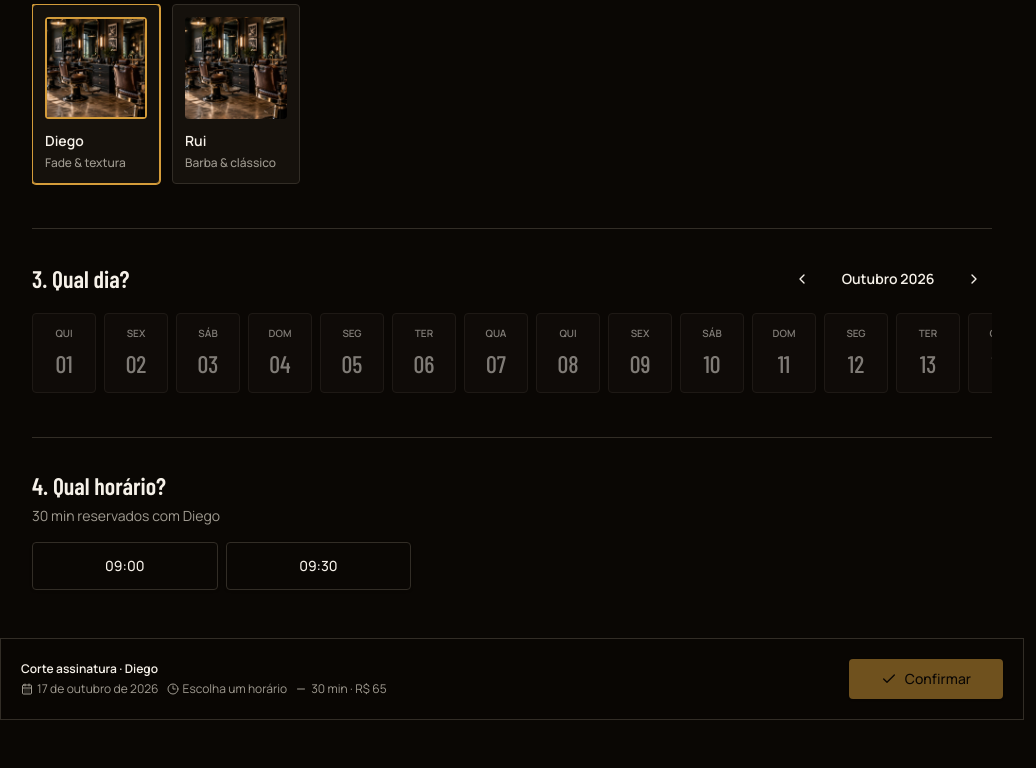
BookingView › confirms the chosen hour without asking for a name or email
(page scrolled)
Click the button "09:30".
click(318, 566)  # box [226,542,411,590]
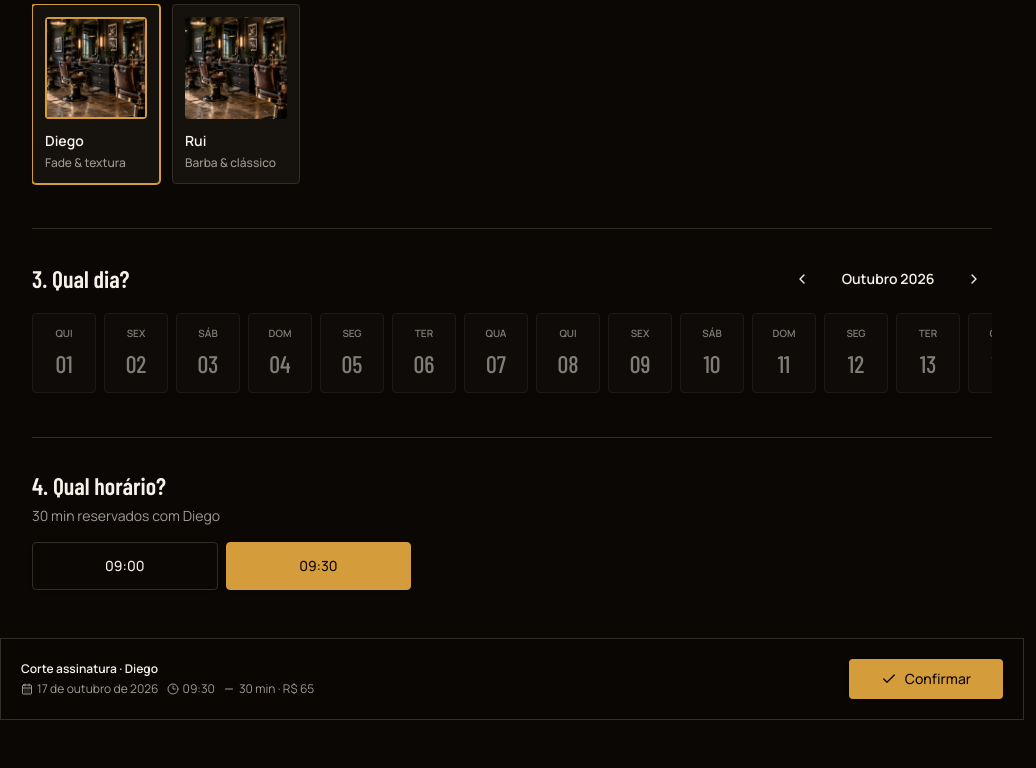
Click the button "Confirmar".
click(926, 679)  # box [849,659,1003,699]
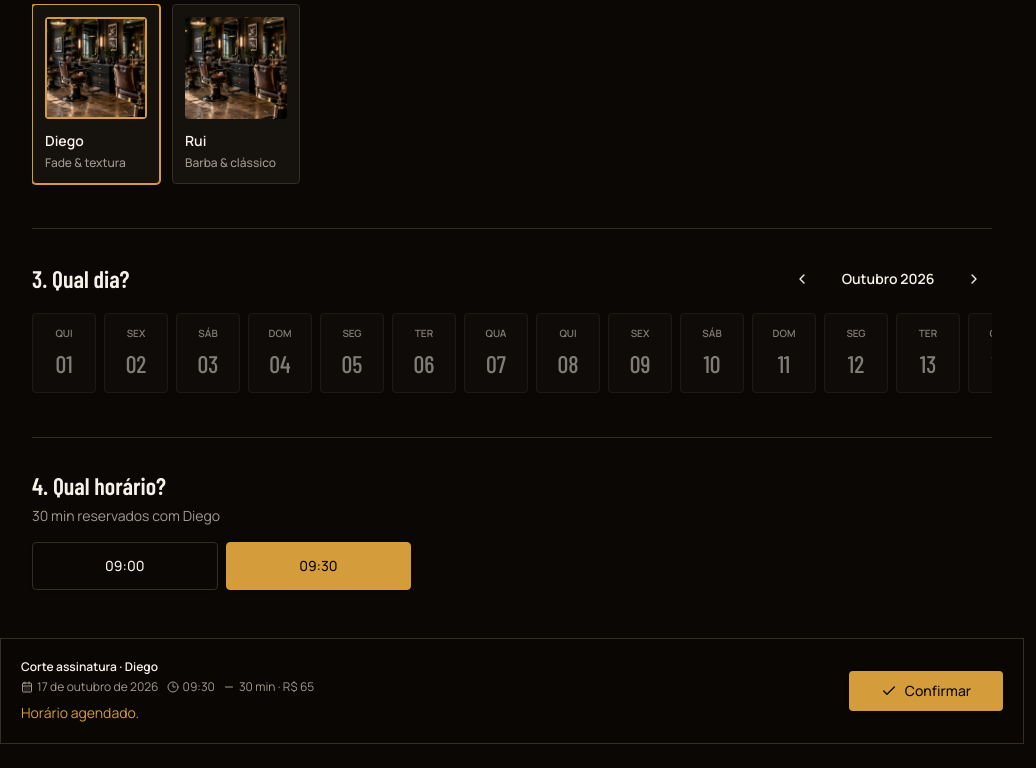
Expected: the text "Horário agendado." is shown, [21,703,139,722]
